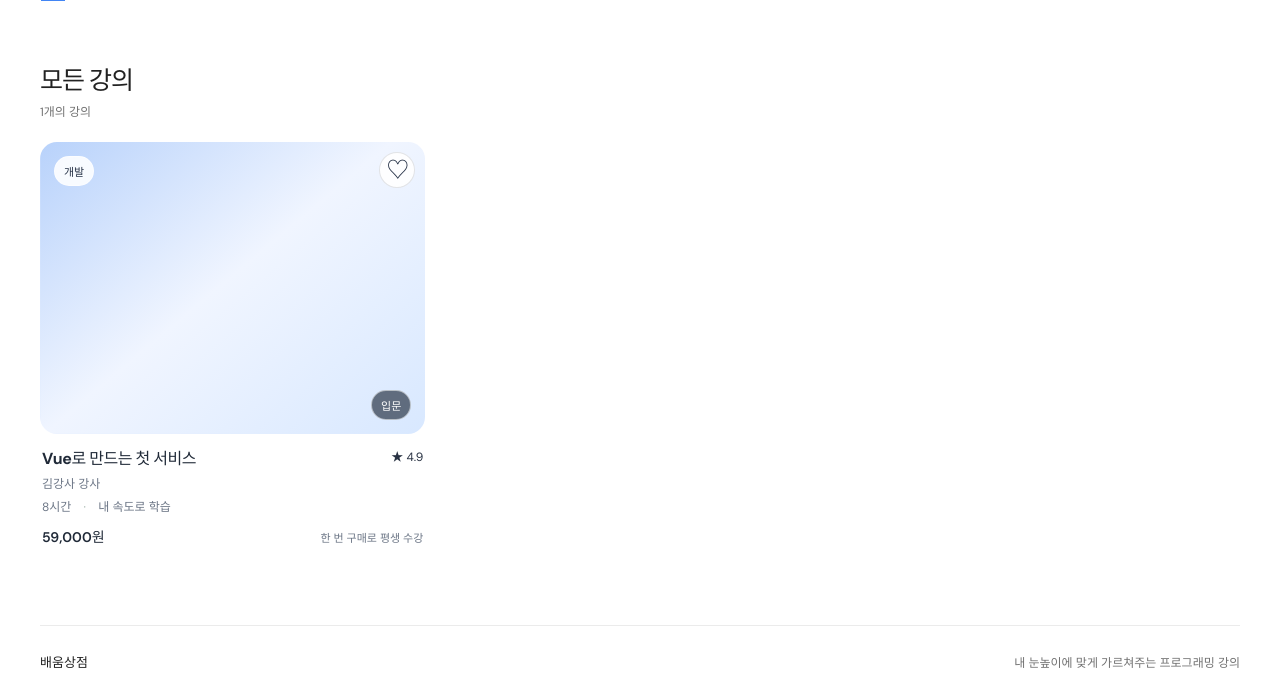
Test: 배움상점 › 기본 경로에서 강의 목록을 보여주고 상세 페이지로 이동한다
(page scrolled)
Click the link at (233, 345), box [40,142,425,547]
(page scrolled)
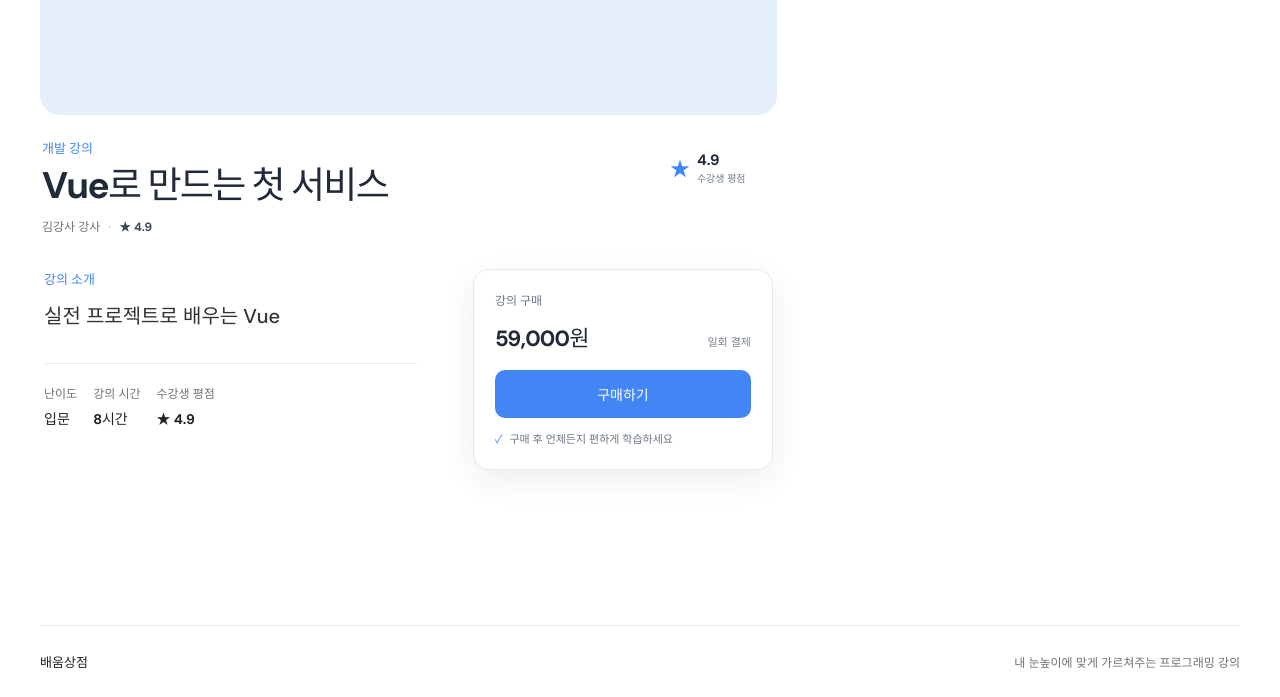
Expected: the text "김강사" is shown, [42,219,104,235]
Expected: the text "구매하기" is shown, [495,370,751,418]
